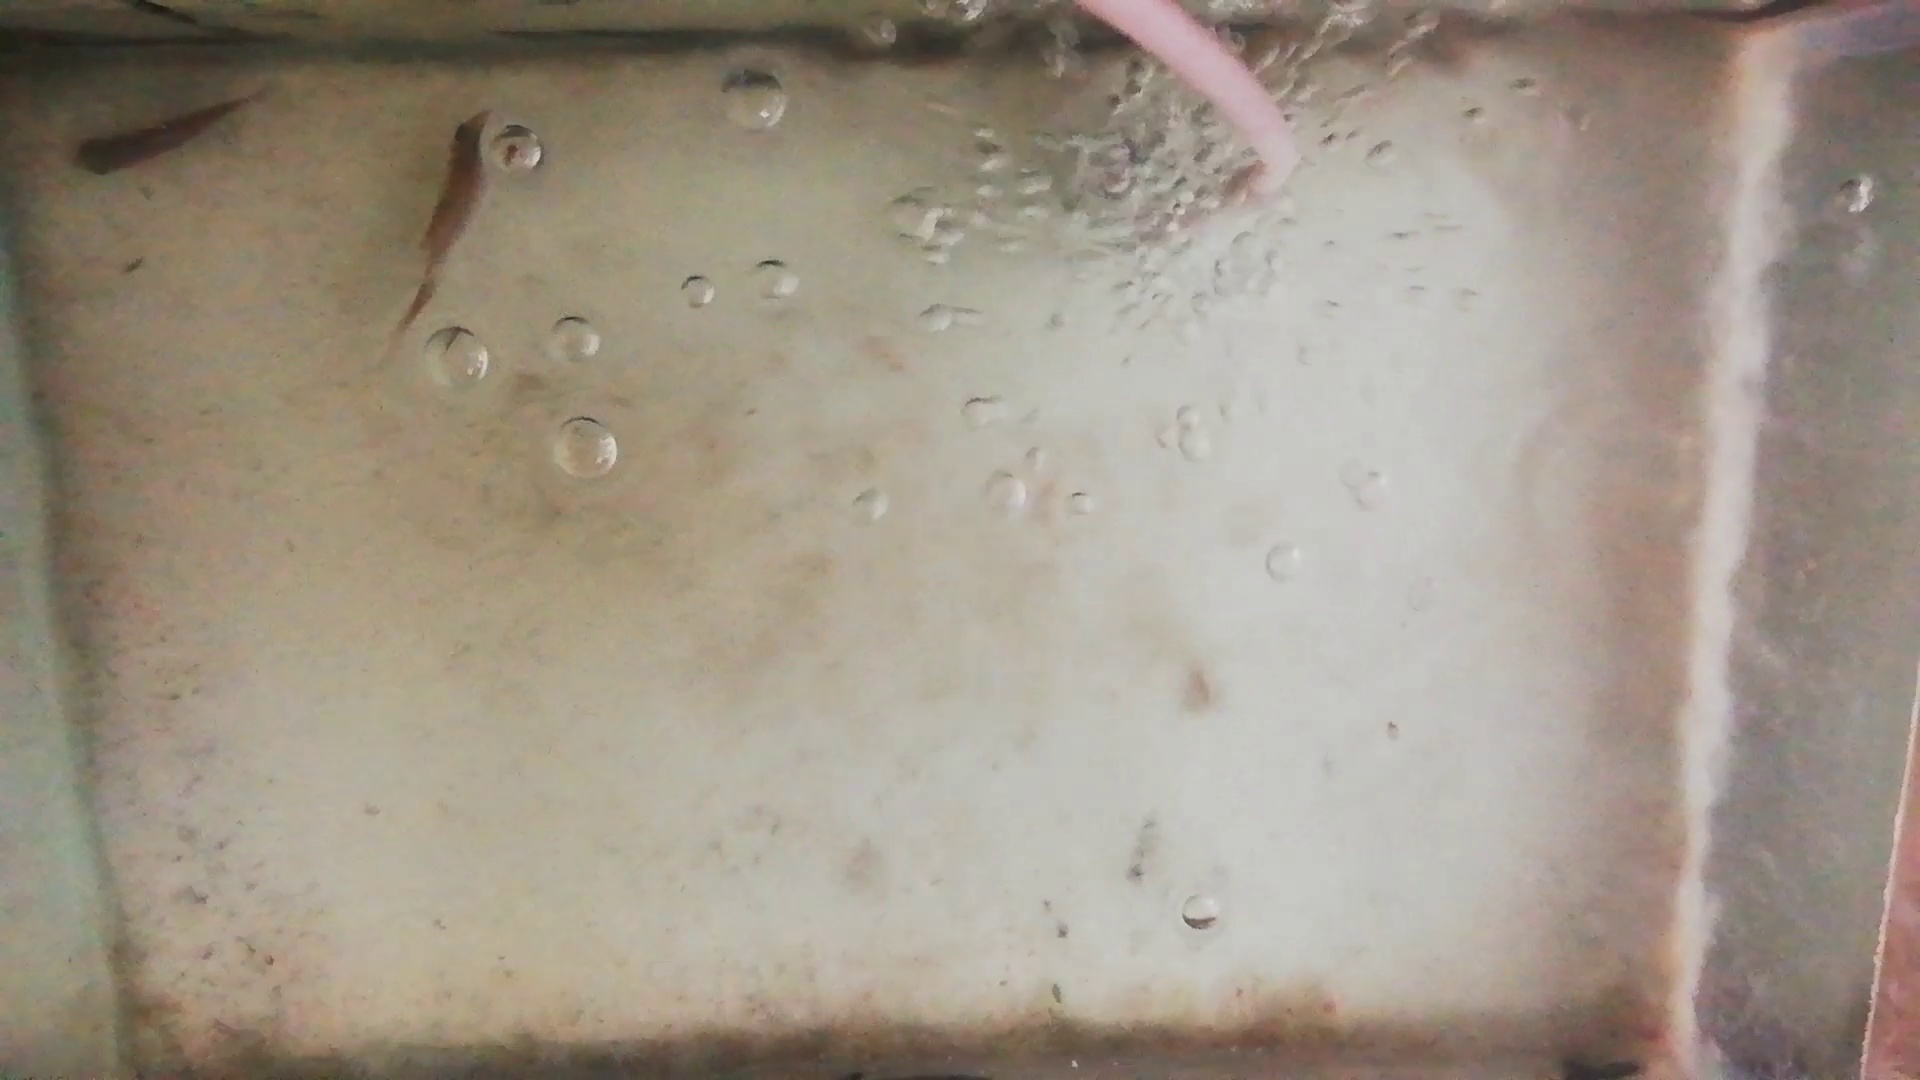fish: (397, 111, 496, 328), (69, 95, 244, 179)
